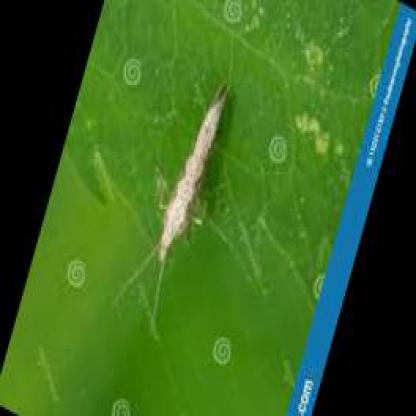plutella: (108, 88, 234, 336)
